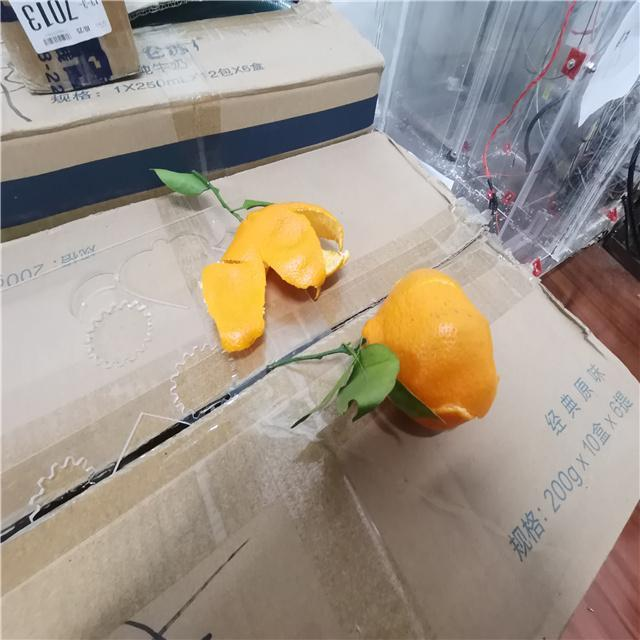orange peel: (360, 266, 497, 440), (200, 200, 346, 358)
